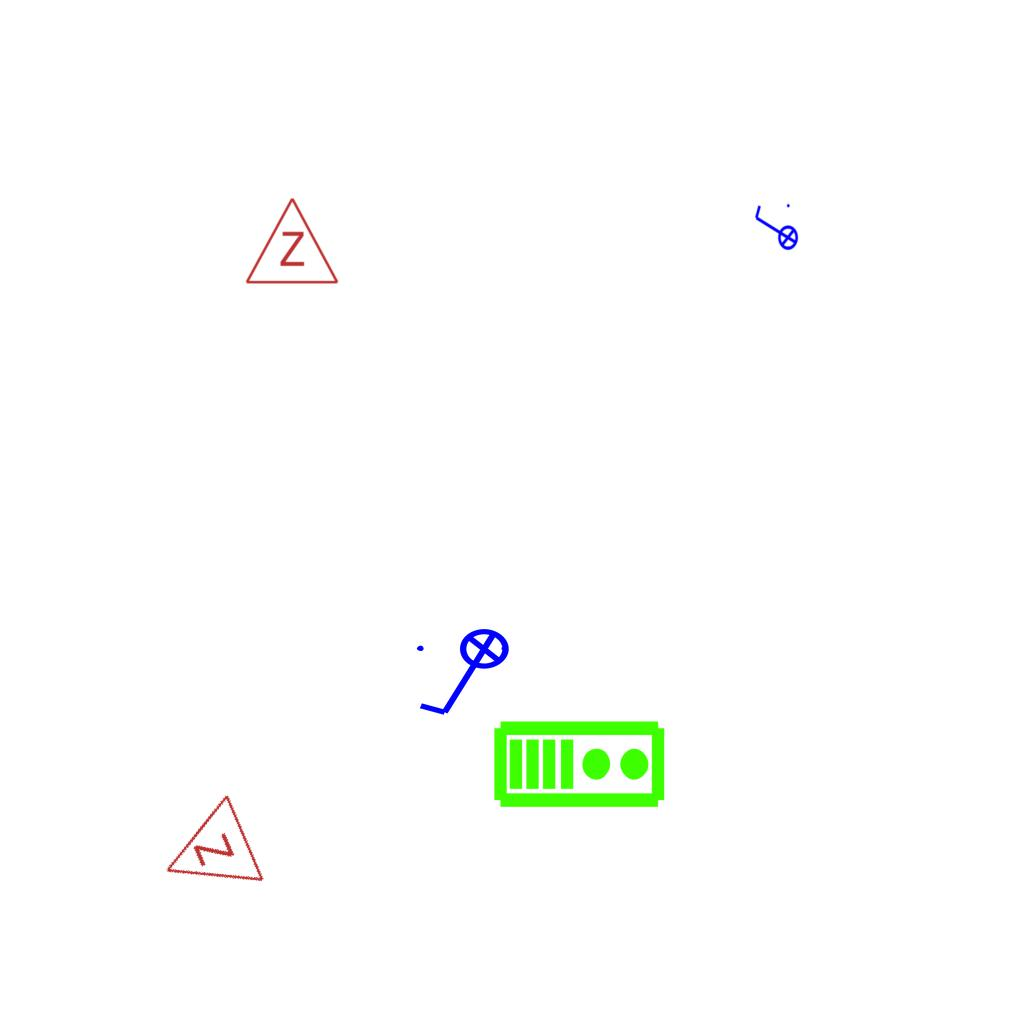Ausschalter_beleuchtet: (411, 627, 523, 723), (751, 201, 799, 257)
Gegensprechanlage_mit_Video: (492, 715, 668, 810)
Zimmersignalleuchte: (141, 790, 273, 920), (242, 191, 340, 291)
